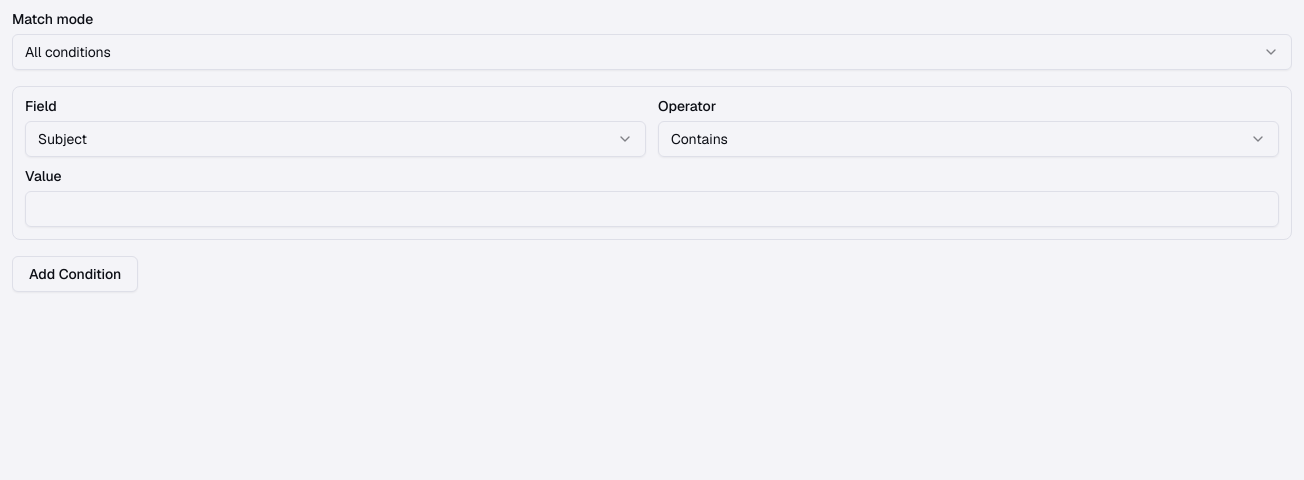
ConditionBuilder › offers negative operators for string predicates
Click the dropdown labelled "Contains": (699,139) [658,121,1279,157]
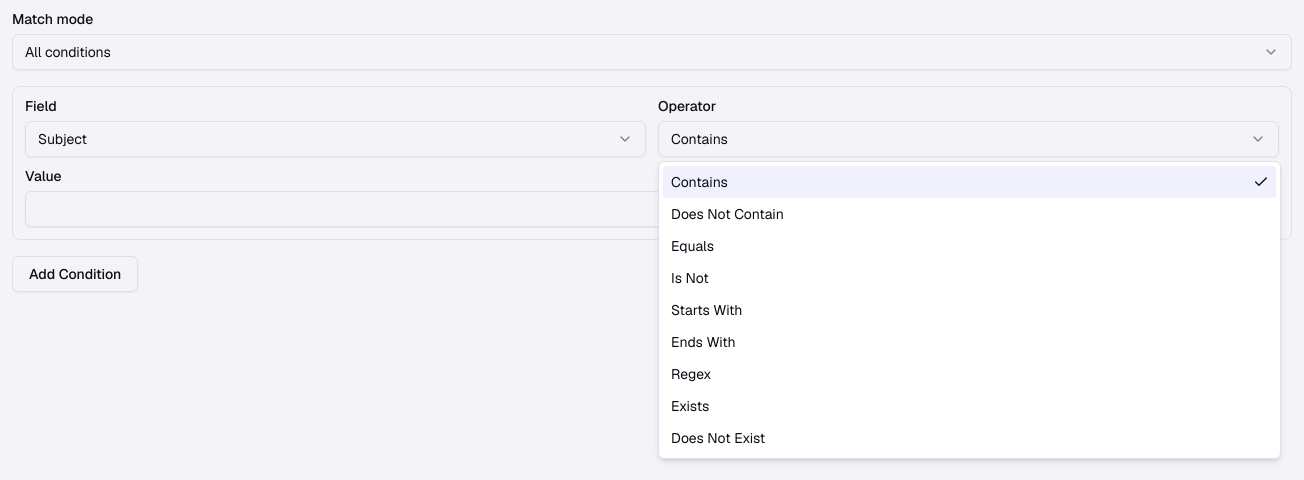
Expected: the text "Does Not Contain" is shown, [671,204,784,224]
Expected: the text "Is Not" is shown, [671,268,709,288]
Expected: the text "Does Not Exist" is shown, [671,428,765,448]
